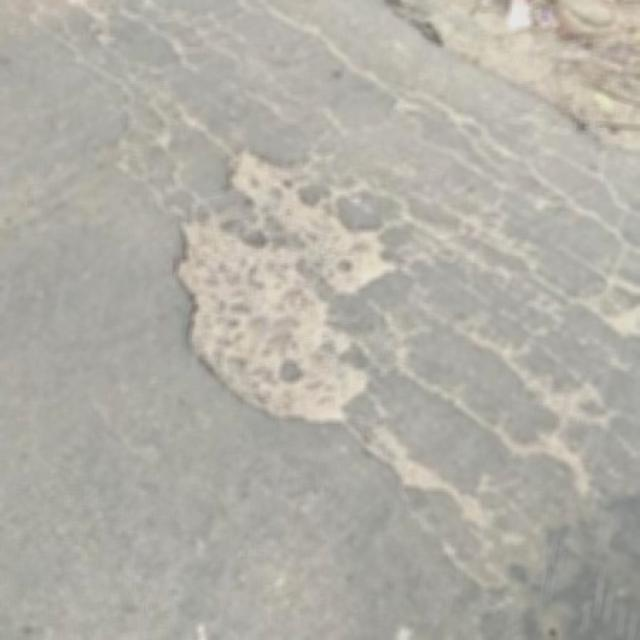road-pothole: (171, 136, 416, 426)
